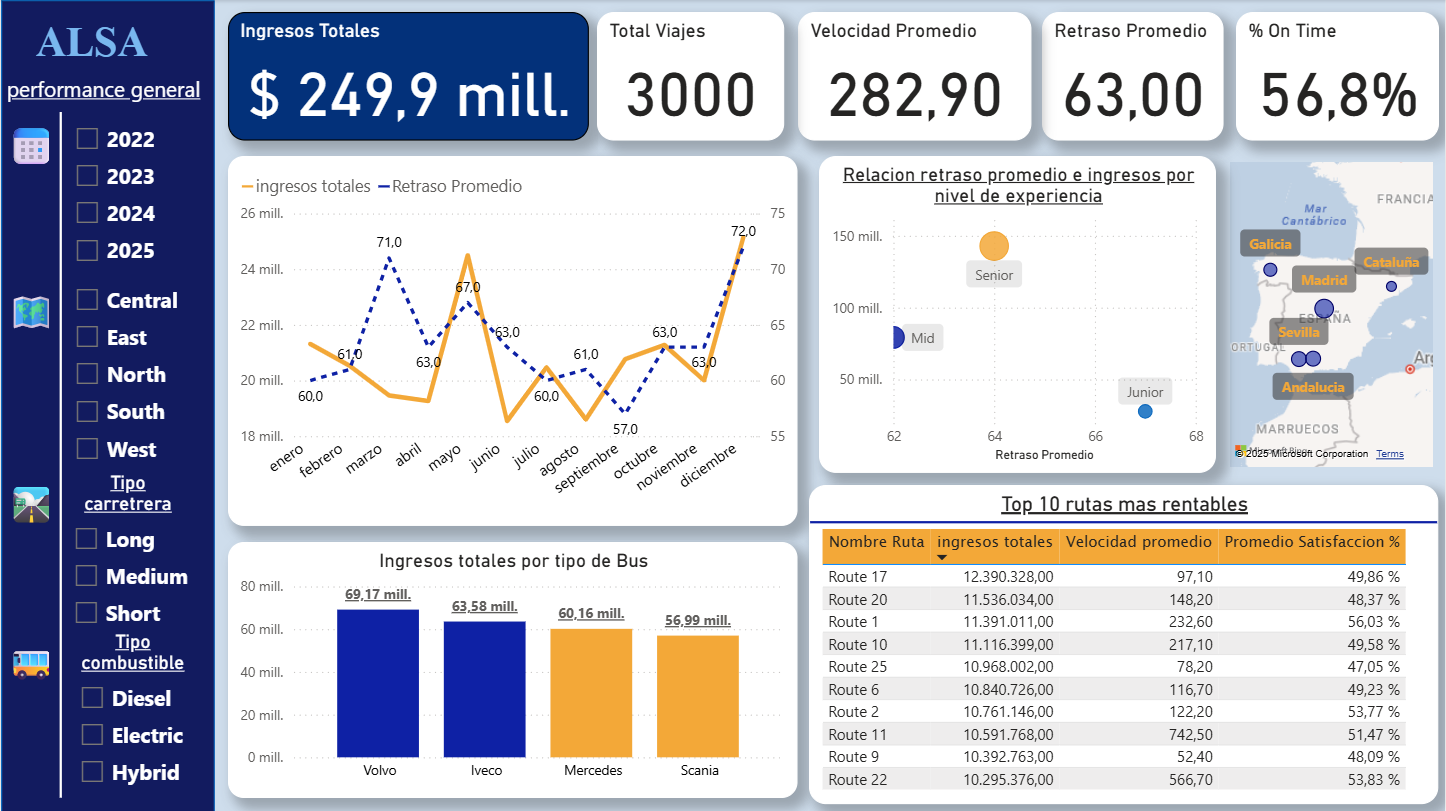

The dashboard page shown, as its layout file describes it:
{"tool":"powerbi","page":{"name":"Performance General","canvas":[1280,720],"ordinal":0},"visuals":[{"type":"shape","box":[0,0,189.6,720.1],"z":0},{"type":"card","title":"Ingresos Totales","fields":{"Values":["Consulta2.ingresos totales"]},"box":[201.4,10.8,320.2,114],"z":1000},{"type":"card","title":"Retraso Promedio","fields":{"Values":["Consulta2.retraso promedio"]},"box":[923.4,10.8,161.1,114],"z":2000},{"type":"card","title":"Velocidad Promedio","fields":{"Values":["Avg(Consulta2.average_speed_km_h)"]},"box":[706.3,10.8,207.3,114],"z":3000},{"type":"card","title":"Total Viajes","fields":{"Values":["Consulta2.total viajes"]},"box":[528.5,10.8,166,114],"z":4000},{"type":"card","title":"% On Time","fields":{"Values":["Consulta2.OnTime %"]},"box":[1095,11.1,180,113.6],"z":5000},{"type":"lineChart","fields":{"Category":["Consulta2.fecha.Variación.Jerarquía de fechas.Mes"],"Y":["Consulta2.ingresos totales"],"Y2":["Consulta2.retraso promedio"]},"box":[201.4,138.5,504.9,328.1],"z":6000},{"type":"map","fields":{"Category":["Consulta2.provincia"],"Size":["Consulta2.ingresos totales"]},"box":[1084.5,138.5,189.6,281],"z":7000},{"type":"slicer","fields":{"Values":["Consulta2.zone"]},"box":[54,243.6,112,175.8],"z":8000},{"type":"slicer","fields":{"Values":["Consulta2.fecha.Variación.Jerarquía de fechas.Año"]},"box":[54,101.2,105.1,142.4],"z":9000},{"type":"slicer","title":"Tipo carretrera","fields":{"Values":["Consulta2.Route_type"]},"box":[53,417.5,118.9,154.2],"z":10000},{"type":"slicer","title":"Tipo combustible","fields":{"Values":["Consulta2.fuel_type"]},"box":[58.9,559,116.9,148.3],"z":11000},{"type":"columnChart","title":"Ingresos totales por tipo de Bus","fields":{"Category":["Consulta2.bus_model"],"Y":["Consulta2.ingresos totales"]},"box":[201.4,480.4,504.9,226.9],"z":12000},{"type":"scatterChart","title":"Relacion retraso promedio e ingresos por nivel de experiencia","fields":{"Y":["Consulta2.ingresos totales"],"Size":["Consulta2.ingresos totales"],"Category":["Consulta2.Experience_Level"],"X":["Consulta2.retraso promedio"]},"box":[725.4,138.1,352,281.4],"z":13000},{"type":"tableEx","title":"Top 10 rutas mas rentables","fields":{"Values":["Consulta2.route_name","Consulta2.ingresos totales","Avg(Consulta2.average_speed_km_h)","Consulta2.Promedio Satisfaccion %"]},"box":[716.1,430.1,557.7,283],"z":14000},{"type":"textbox","box":[0,101.2,54,58.9],"z":15000},{"type":"textbox","box":[0,248.5,58.9,59.9],"z":16000},{"type":"shape","box":[41.3,99.2,22.6,608.1],"z":17000},{"type":"textbox","box":[0,419.5,58.9,53],"z":18000},{"type":"textbox","box":[0,559,58.9,59.9],"z":19000},{"type":"textbox","box":[0,60.9,209.2,38.3],"z":20000},{"type":"textbox","box":[25.5,10.8,116.9,72.7],"z":21000}]}

Visuals, with their boxes in screenshot pixels (x1, y1, x2, y2), scaled from the page's 1280x720 canvas onto the 1446x811 screenshot:
shape: 0 0 214 810
"Ingresos Totales" card: 228 12 589 141
"Retraso Promedio" card: 1043 12 1225 141
"Velocidad Promedio" card: 798 12 1032 141
"Total Viajes" card: 597 12 785 141
"% On Time" card: 1237 13 1440 140
lineChart - Consulta2.fecha.Variación.Jerarquía de fechas.Mes x Consulta2.ingresos totales: 228 156 798 526
map - Consulta2.provincia x Consulta2.ingresos totales: 1225 156 1439 473
slicer - Consulta2.zone: 61 274 188 472
slicer - Consulta2.fecha.Variación.Jerarquía de fechas.Año: 61 114 180 274
"Tipo carretrera" slicer: 60 470 194 644
"Tipo combustible" slicer: 67 630 199 797
"Ingresos totales por tipo de Bus" columnChart: 228 541 798 797
"Relacion retraso promedio e ingresos por nivel de experiencia" scatterChart: 819 156 1217 473
"Top 10 rutas mas rentables" tableEx: 809 484 1439 803
textbox: 0 114 61 180
textbox: 0 280 67 347
shape: 47 112 72 797
textbox: 0 473 67 532
textbox: 0 630 67 697
textbox: 0 69 236 112
textbox: 29 12 161 94
